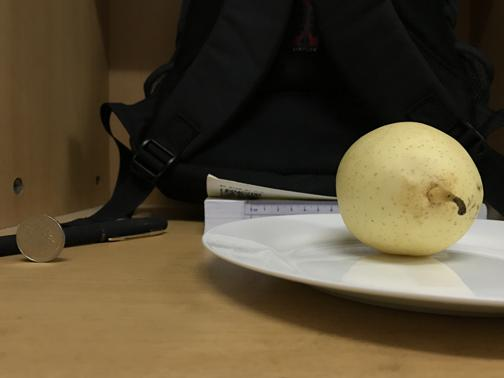coin: (16, 216, 66, 263)
pear: (332, 120, 483, 255)
